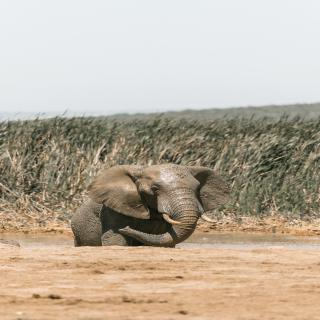Elephant: (62, 160, 237, 251)
